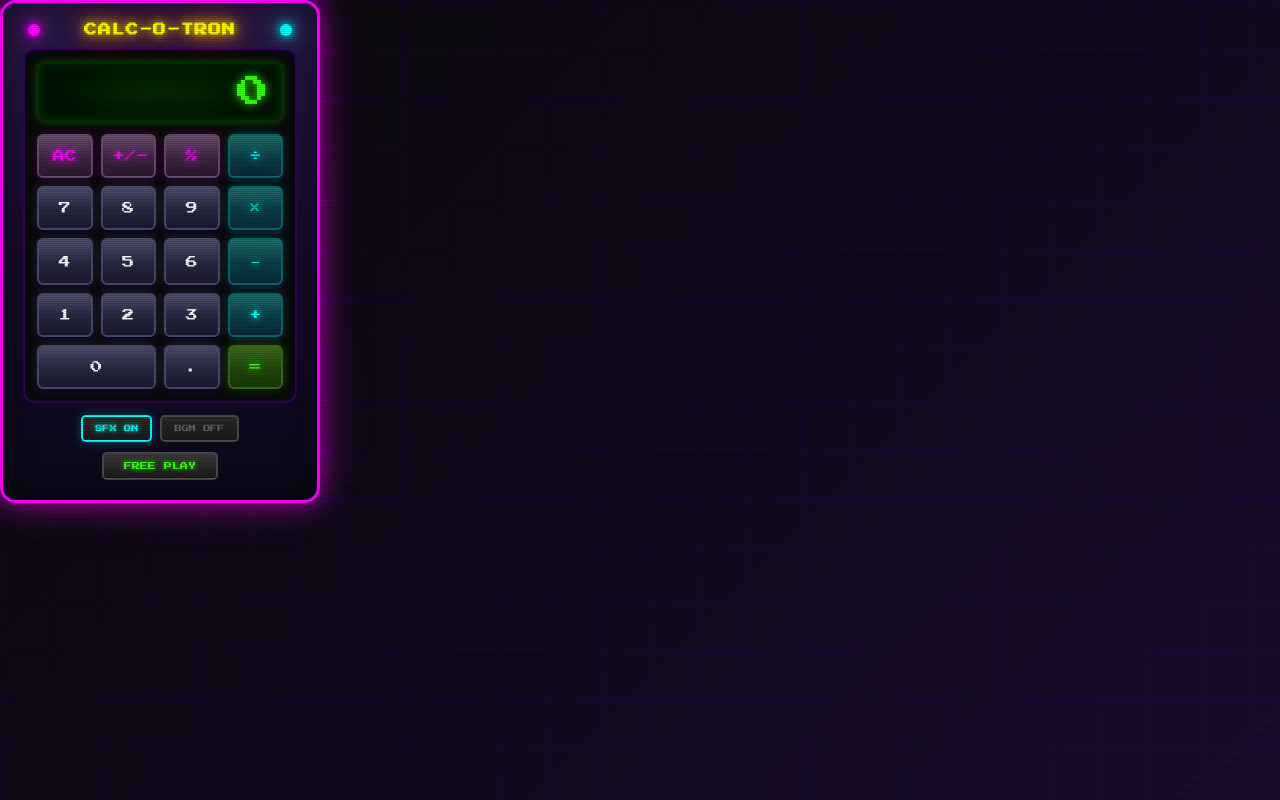
Scenario: Calculator › handles decimal input
Click the button "3" at (192, 315), box x1=164 y1=293 x2=220 y2=337
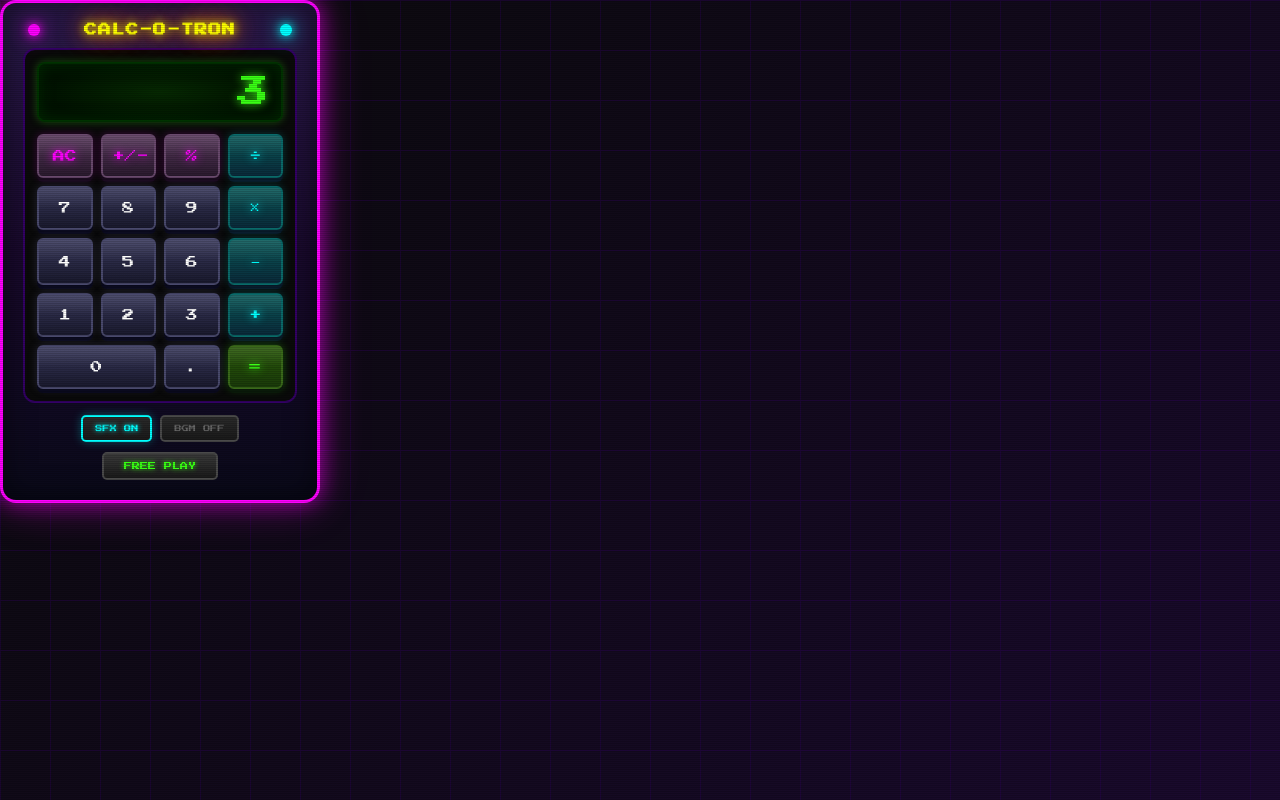
Click the button "." at (192, 367), box x1=164 y1=345 x2=220 y2=389
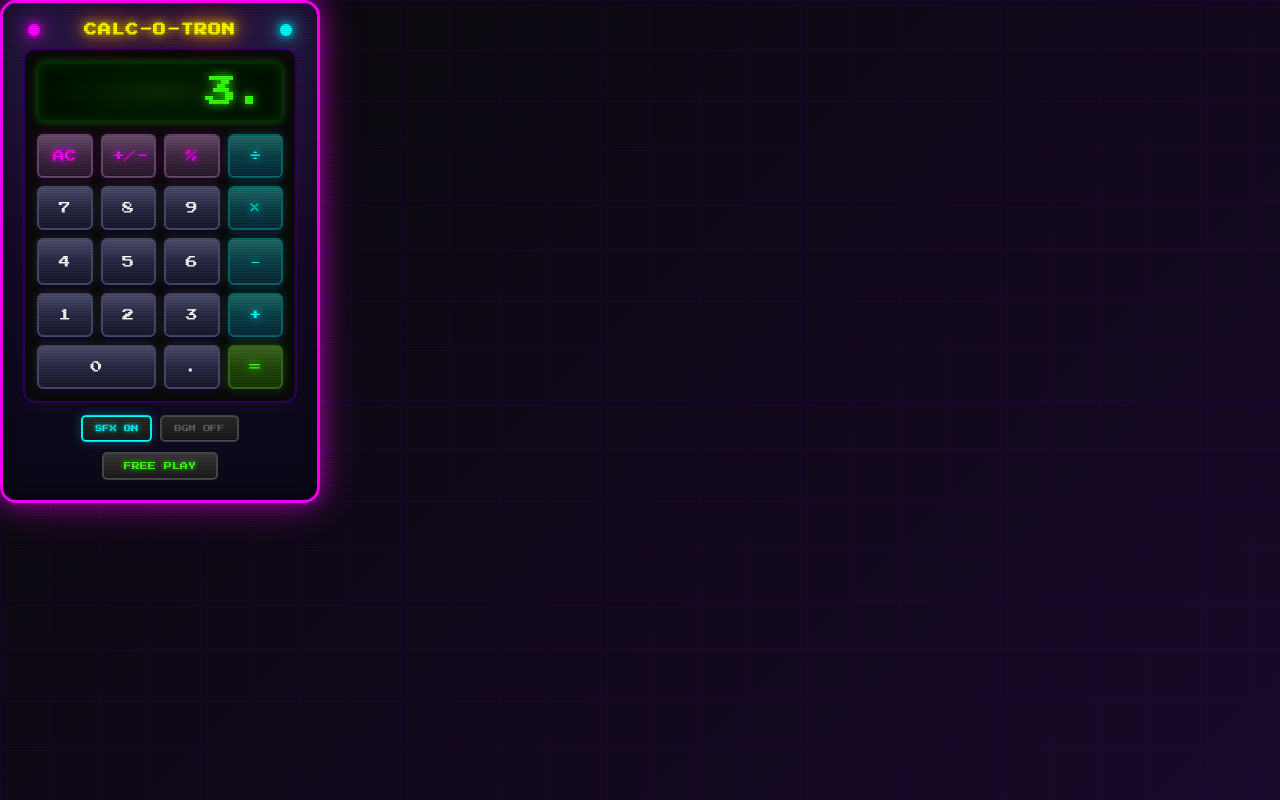
Click the button "1" at (65, 315), box x1=37 y1=293 x2=92 y2=337
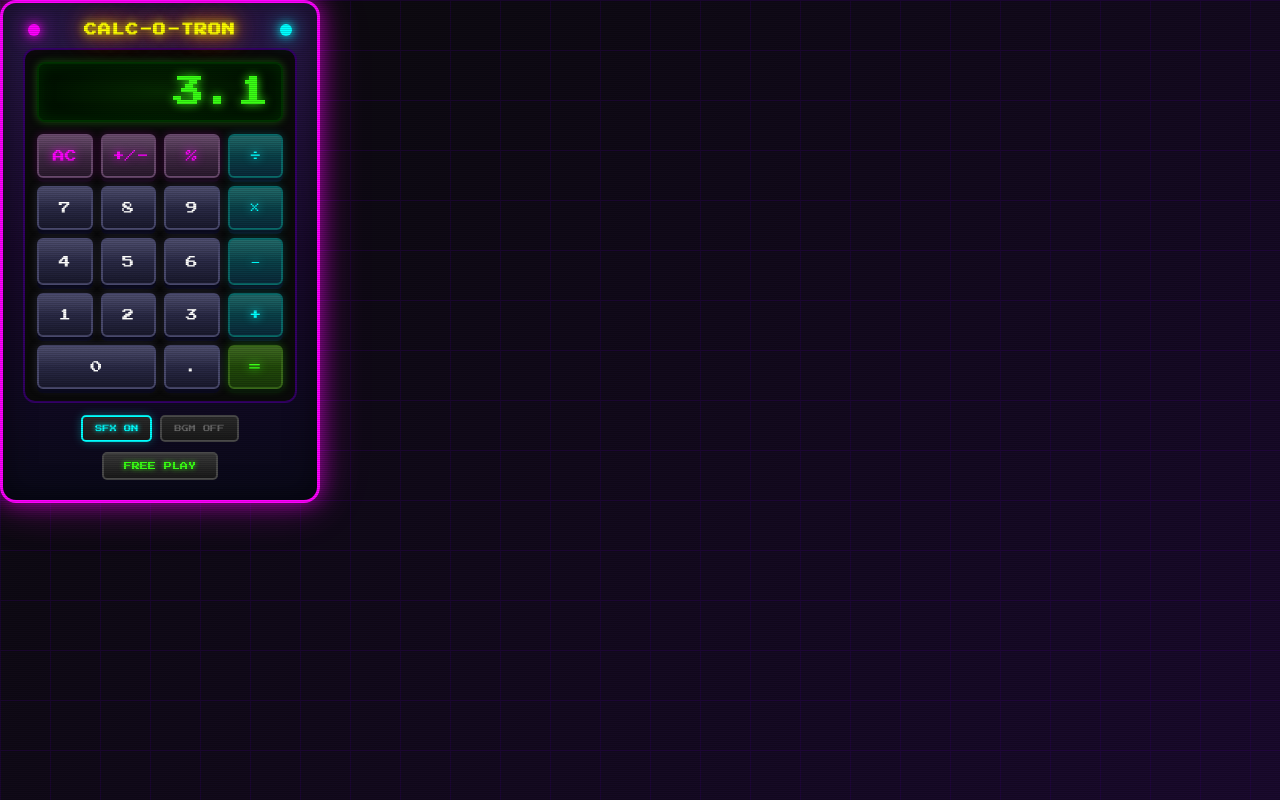
Click the button "4" at (65, 262), box x1=37 y1=238 x2=92 y2=285
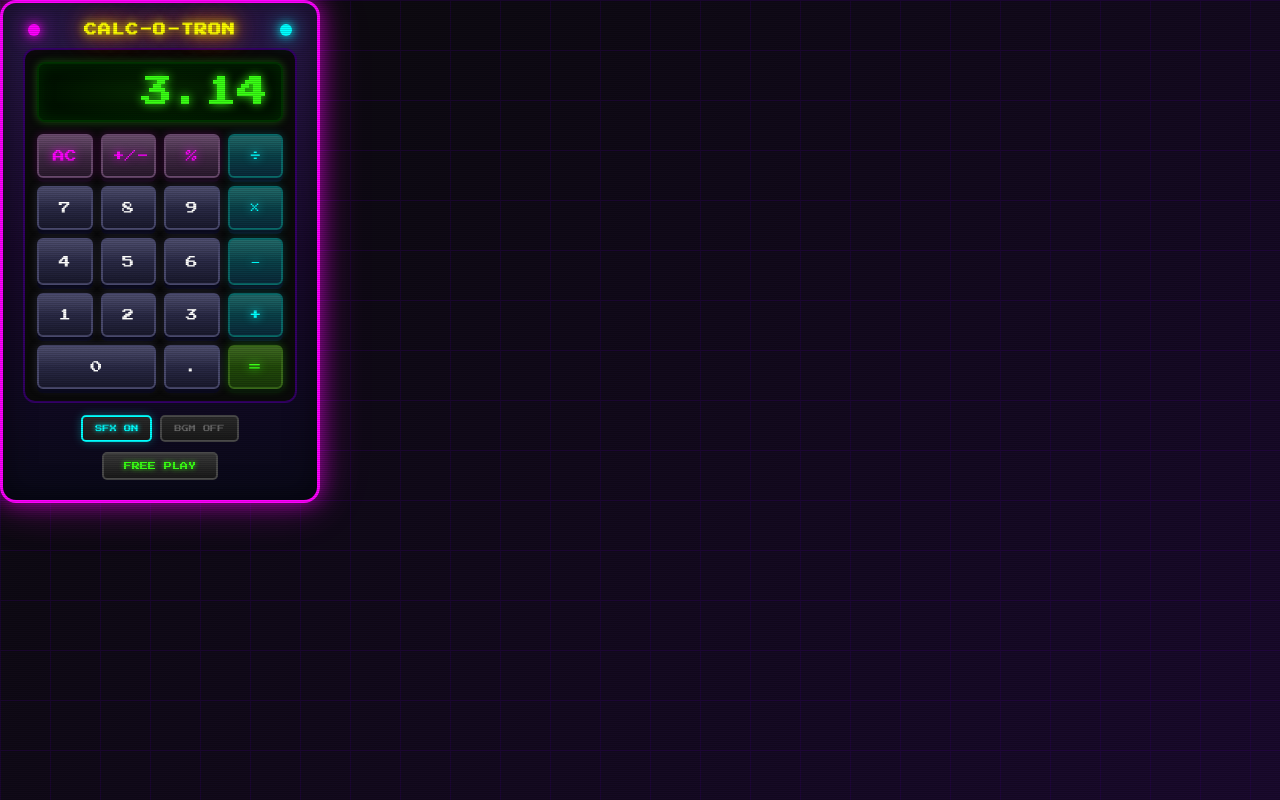
expect the text with test id "display" reads "3.14": met, box x1=141 y1=76 x2=269 y2=108
